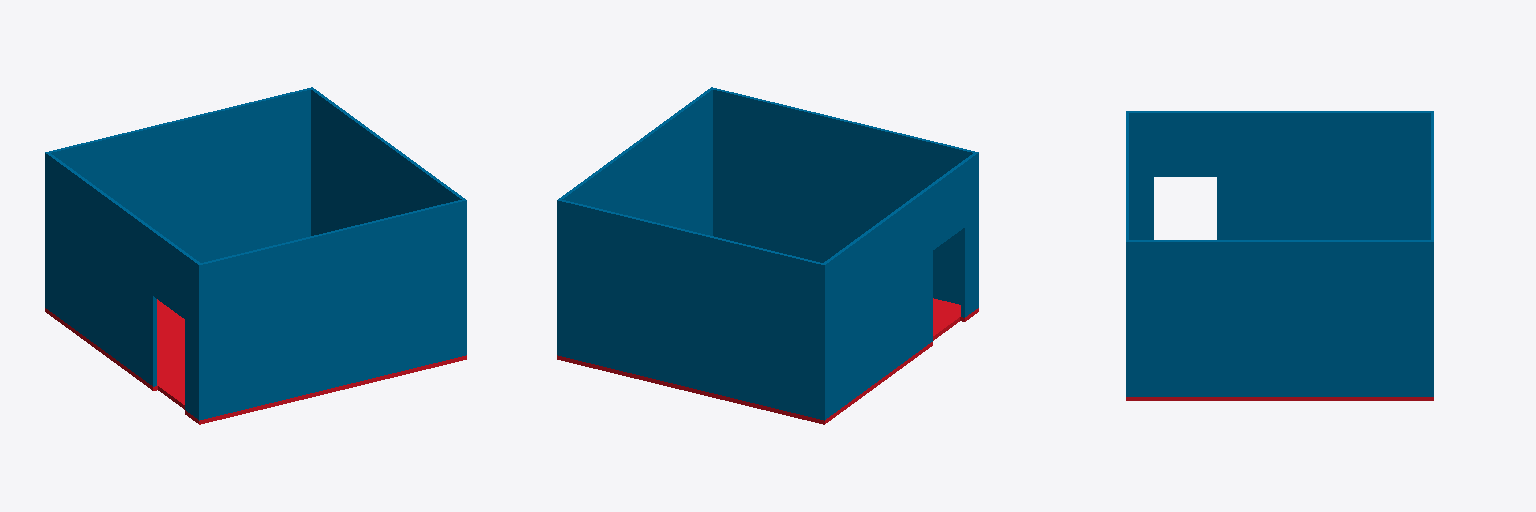
Rendered from Room_SR_0001.obj.
The picture shows the model from 3 angles: view 1: azimuth 30°, elevation 25°; view 2: azimuth 150°, elevation 25°; view 3: azimuth 270°, elevation 25°; orthographic projection.
Parts seen in each view (by area): view 1: obj_0.001; view 2: obj_0.001; view 3: obj_0.001.
Boxes of the visible parts, x1=… form: obj_0.001: x1=45, y1=87, x2=466, y2=424; obj_0.001: x1=557, y1=87, x2=978, y2=424; obj_0.001: x1=1126, y1=111, x2=1433, y2=400.
Bounding box in the file's own units: 1.95 × 1.11 × 1.95.